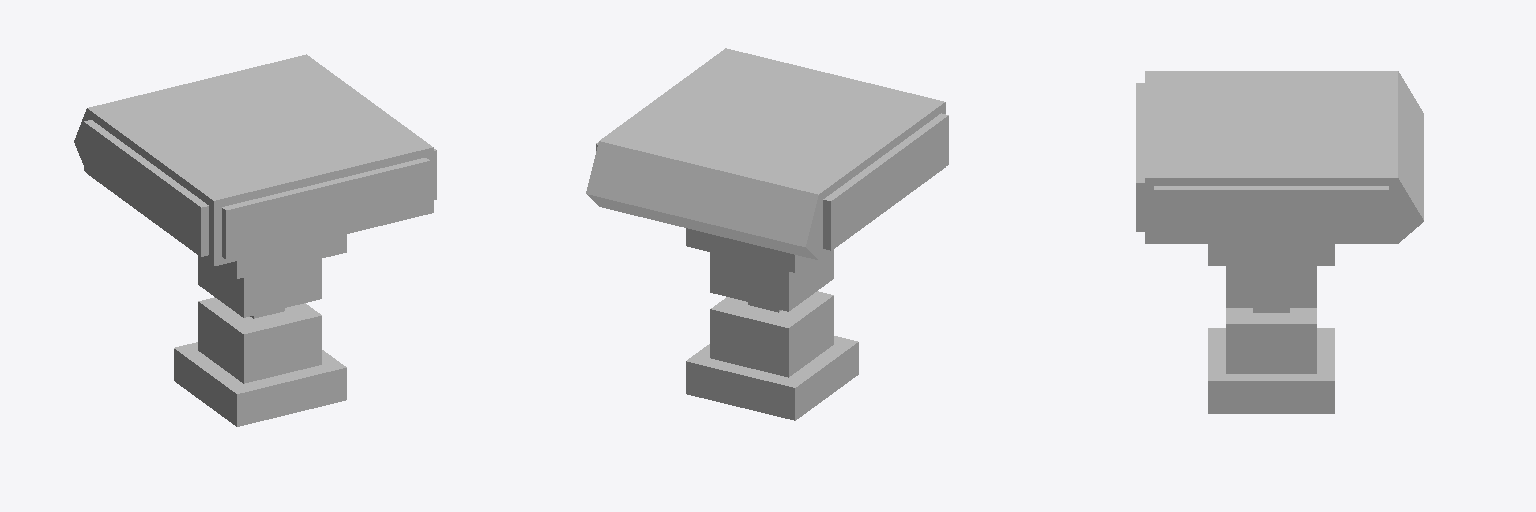
Rendered from blueprint_creator.obj.
3 renders of one model, left to right at view 1: azimuth 30°, elevation 25°; view 2: azimuth 150°, elevation 25°; view 3: azimuth 270°, elevation 25°, orthographic.
Parts seen in each view (by area): view 1: boardMain, sideBack, bodyDown, shape8, sideLR, bodyUp, shape9; view 2: boardMain, keyboardMain, bodyDown, shape8, sideLR, bodyUp, keyboardDetail, shape9; view 3: boardMain, sideLR, shape8, bodyDown, bodyUp, keyboardMain, shape9, sideBack.
Part boxes in pixels (left/top/right/bottom): boardMain: left=87, top=54, right=433, bottom=265; sideBack: left=222, top=158, right=429, bottom=259; bodyDown: left=198, top=297, right=321, bottom=383; shape8: left=174, top=342, right=346, bottom=426; sideLR: left=84, top=120, right=436, bottom=256; bodyUp: left=198, top=255, right=321, bottom=317; shape9: left=219, top=234, right=346, bottom=278; boardMain: left=600, top=48, right=945, bottom=259; keyboardMain: left=586, top=141, right=825, bottom=250; bodyDown: left=710, top=291, right=833, bottom=377; shape8: left=686, top=336, right=858, bottom=420; sideLR: left=596, top=113, right=948, bottom=250; bodyUp: left=710, top=250, right=833, bottom=311; keyboardDetail: left=587, top=194, right=818, bottom=259; shape9: left=686, top=228, right=813, bottom=272; boardMain: left=1145, top=71, right=1397, bottom=243; sideLR: left=1154, top=186, right=1388, bottom=239; shape8: left=1208, top=328, right=1334, bottom=413; bodyDown: left=1226, top=308, right=1316, bottom=373; bodyUp: left=1226, top=266, right=1316, bottom=307; keyboardMain: left=1385, top=71, right=1423, bottom=236; shape9: left=1208, top=244, right=1334, bottom=265; sideBack: left=1136, top=83, right=1144, bottom=231.
Bounding box in the file's own units: 0.9375 × 1 × 0.9963.